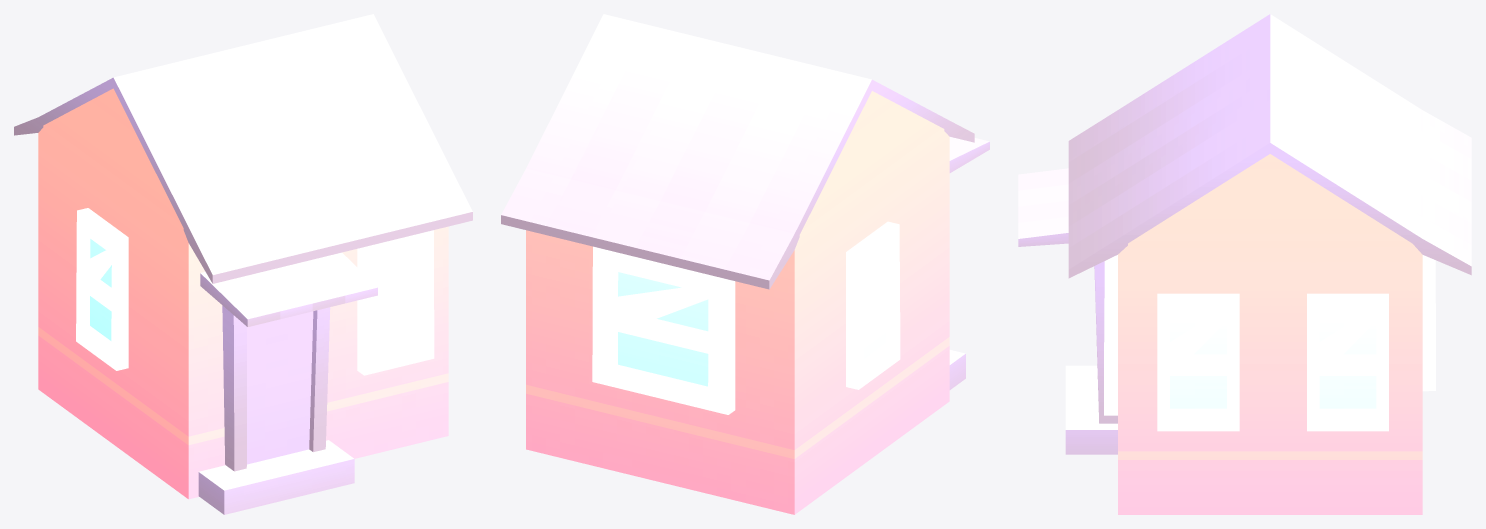
Rendered from house1.glb.
3 renders of one model, left to right at view 1: azimuth 30°, elevation 25°; view 2: azimuth 150°, elevation 25°; view 3: azimuth 270°, elevation 25°, orthographic. The views are drawn at different scales.
Visible parts, largest first — view 1: house_cube; view 2: house_cube; view 3: house_cube.
Part boxes in pixels (bbox=[...]): house_cube: bbox=[14, 14, 472, 514]; house_cube: bbox=[501, 14, 989, 514]; house_cube: bbox=[1018, 14, 1471, 514].
Bounding box in the file's own units: 2.17 × 2.7 × 2.98.
